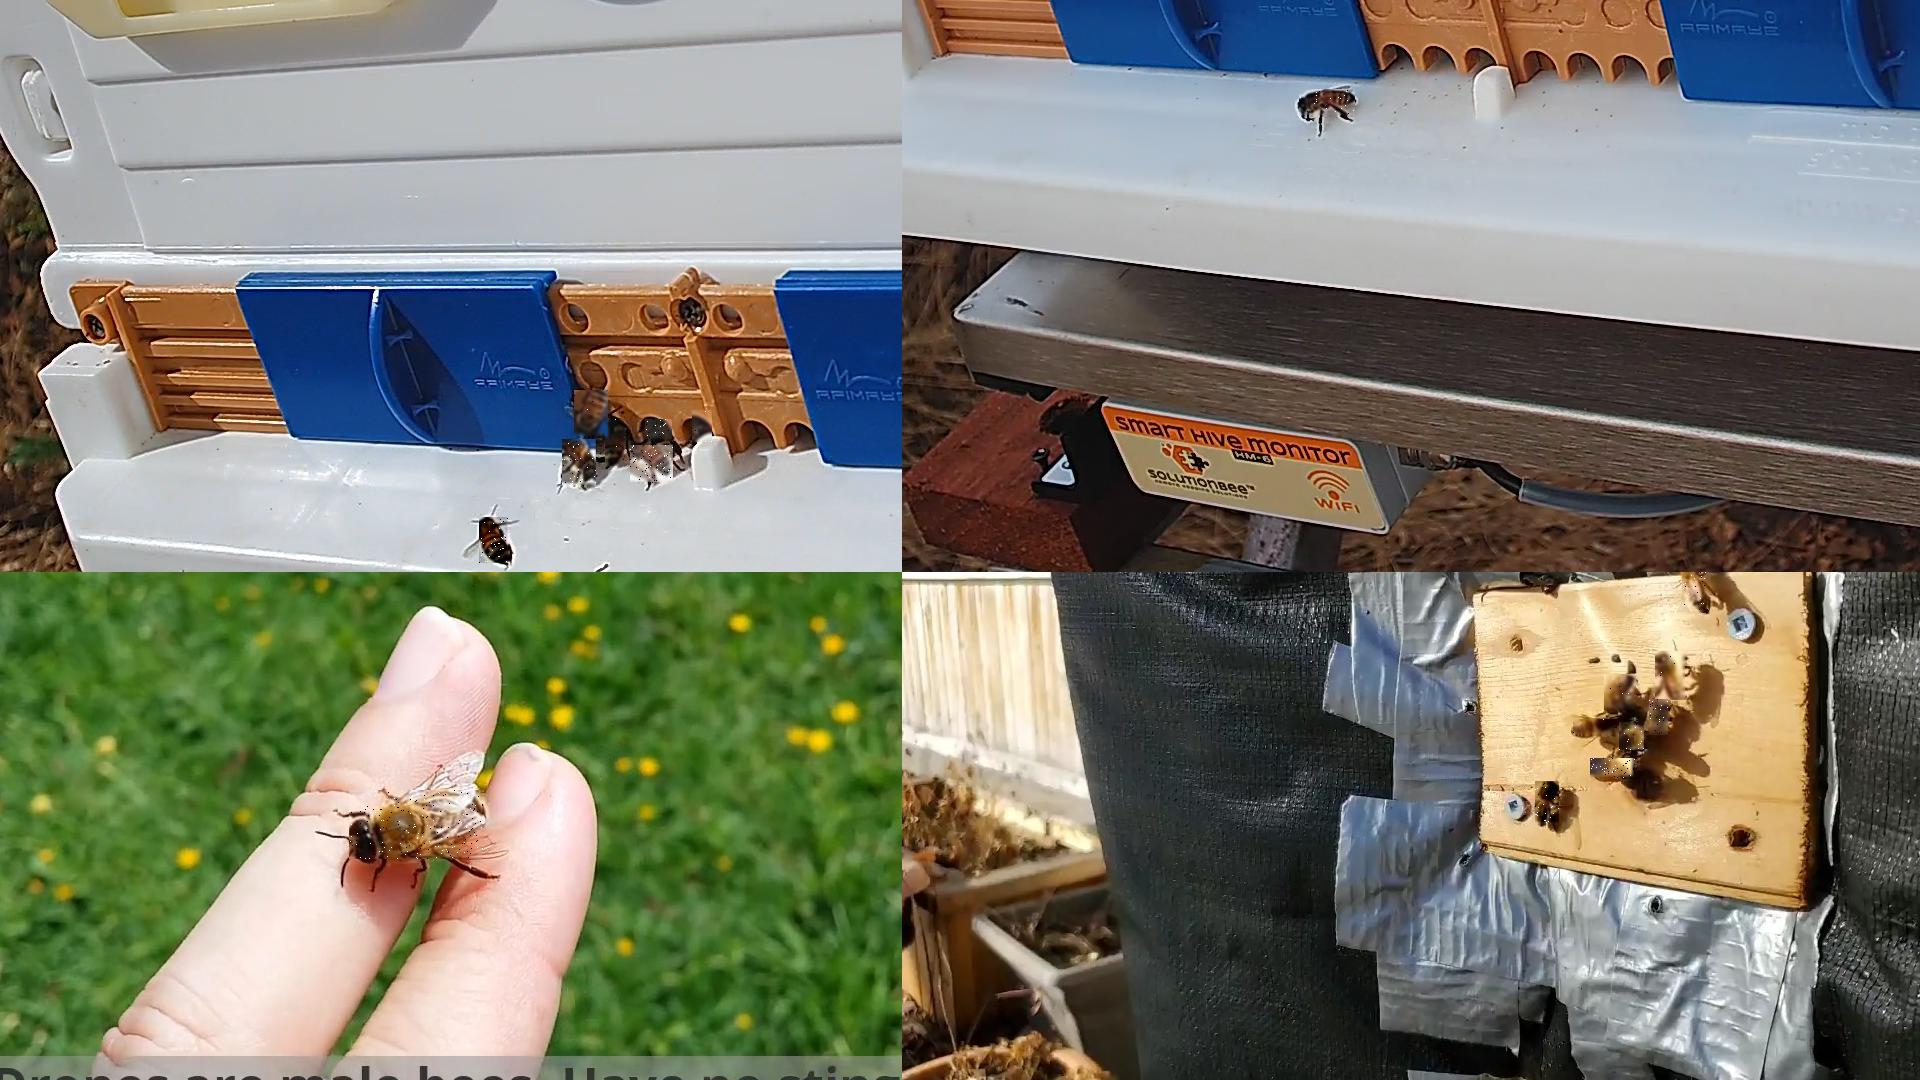bee: (630, 446, 674, 485), (574, 391, 609, 439), (562, 440, 597, 488), (1656, 651, 1688, 701), (1299, 90, 1356, 118), (480, 517, 511, 564), (1605, 675, 1639, 713), (1682, 572, 1711, 612), (1535, 782, 1560, 826), (605, 418, 625, 467), (1591, 759, 1637, 780), (1619, 722, 1645, 751), (1573, 720, 1617, 737), (1649, 699, 1669, 736), (692, 411, 713, 445), (645, 420, 673, 442)
drone: (350, 790, 485, 860)
